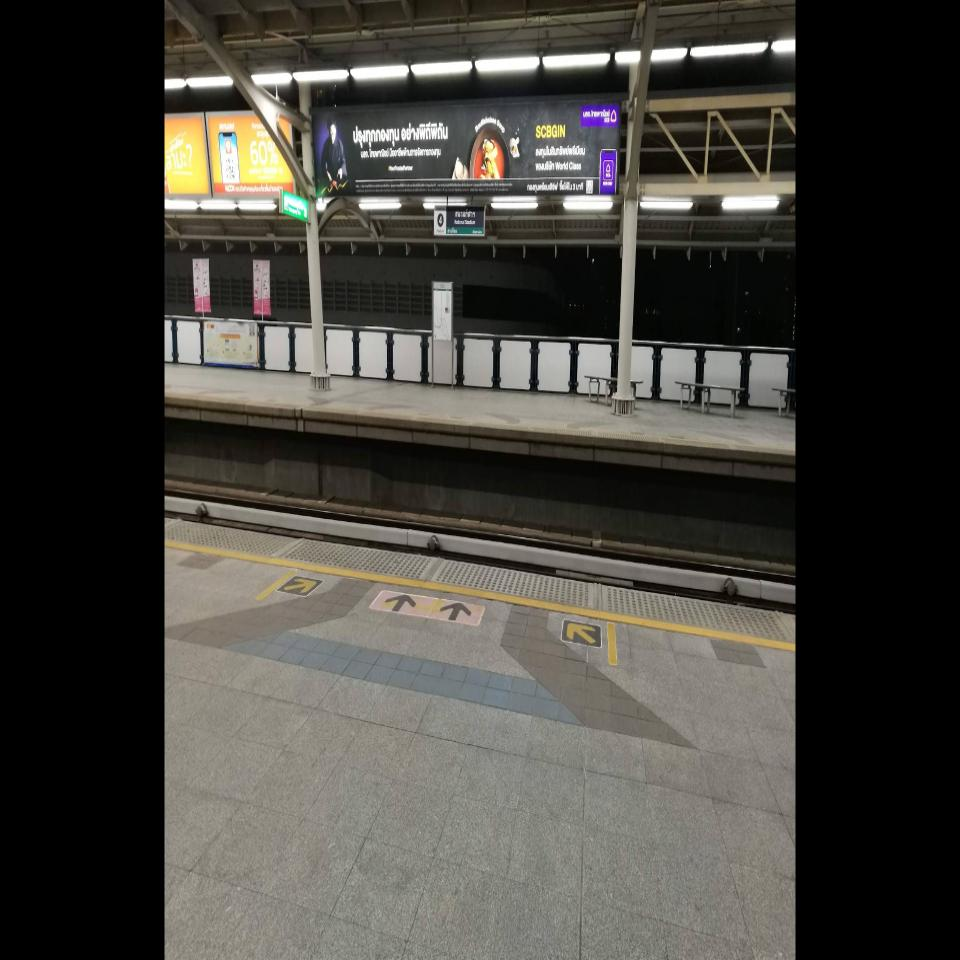National Stadium: (453, 204, 476, 237)
